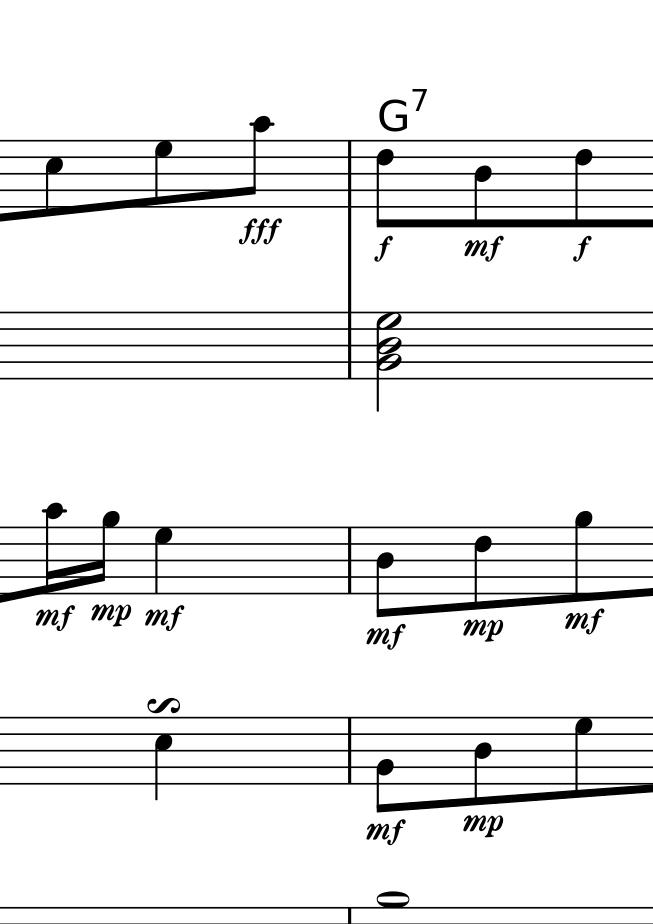16_10: (43, 501, 71, 597)
16_9: (89, 509, 120, 596)
2_th: (375, 310, 403, 410)
4_5: (153, 716, 174, 801)
4_7: (149, 527, 173, 594)
7: (411, 86, 427, 112)
8_10: (239, 115, 273, 208)
8_2: (375, 714, 397, 815)
8_4: (374, 526, 402, 619), (472, 137, 496, 229), (471, 715, 495, 807)
8_5: (43, 138, 65, 220)
8_6: (571, 138, 596, 228), (375, 138, 398, 231), (473, 524, 497, 610)
8_7: (571, 713, 596, 801), (153, 138, 176, 210)
8_9: (573, 508, 597, 603)
Inverted_turn: (144, 696, 181, 716)
Single_barline: (341, 528, 358, 595), (341, 718, 358, 784), (341, 141, 358, 207), (342, 312, 359, 377)
f: (371, 233, 399, 264), (570, 234, 598, 263)
fff: (237, 215, 286, 250)
mf: (33, 601, 80, 642), (362, 621, 407, 656), (564, 603, 605, 641), (360, 816, 410, 847), (464, 230, 504, 267), (144, 601, 187, 630)
mp: (462, 811, 506, 847), (85, 598, 134, 629), (458, 614, 507, 643)
